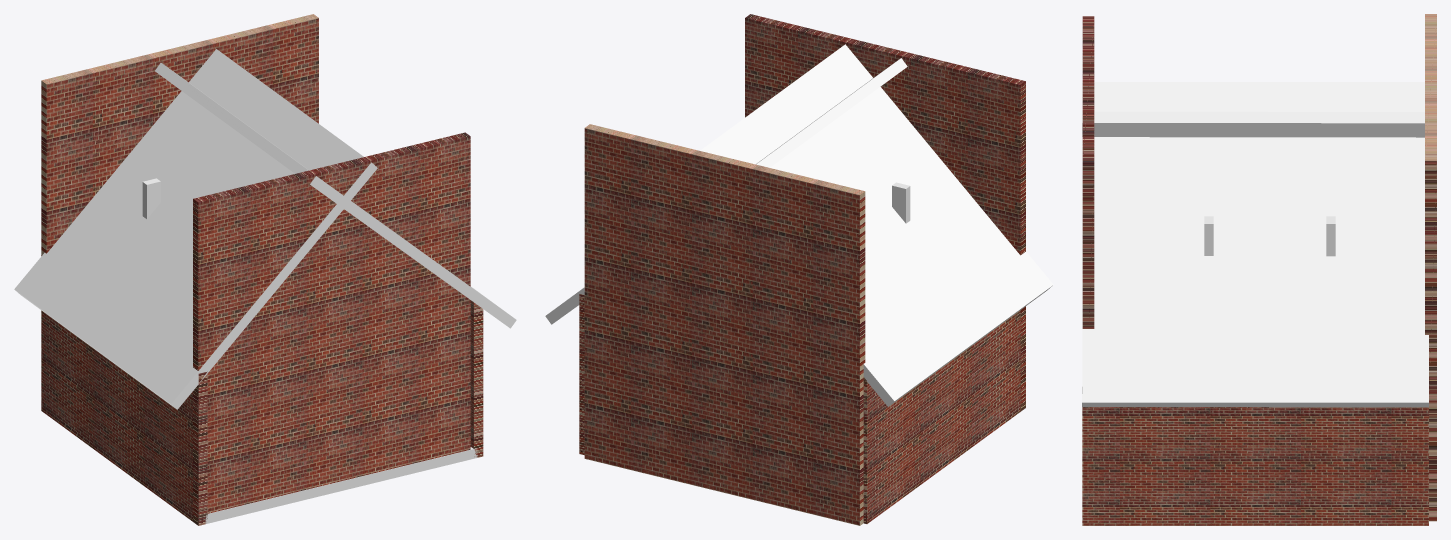
File: pingpong_final_texture_mende.gltf
The picture shows the model from 3 angles, left to right: view 1: azimuth 30°, elevation 25°; view 2: azimuth 150°, elevation 25°; view 3: azimuth 270°, elevation 25°; orthographic projection. The views are drawn at different scales.
Visible parts, largest first — view 1: Plane.012, Plane.026, Plane.016, Plane.011, Plane.015, Plane.014, Plane.013, Plane.035; view 2: Plane.016, Plane.026, Plane.012, Plane.011, Plane.015, Plane.013, Plane.034; view 3: Plane.015, Plane.013, Plane.026, Plane.016, Plane.012.
Part boxes in pixels (bbox=[...]): Plane.012: bbox=[193, 132, 470, 525]; Plane.026: bbox=[14, 49, 377, 409]; Plane.016: bbox=[41, 14, 318, 255]; Plane.011: bbox=[41, 310, 207, 525]; Plane.015: bbox=[155, 63, 516, 328]; Plane.014: bbox=[205, 447, 477, 523]; Plane.013: bbox=[470, 300, 483, 457]; Plane.035: bbox=[142, 178, 160, 218]; Plane.016: bbox=[584, 124, 865, 525]; Plane.026: bbox=[700, 44, 1053, 406]; Plane.012: bbox=[745, 14, 1025, 411]; Plane.011: bbox=[863, 310, 1025, 523]; Plane.015: bbox=[545, 58, 907, 324]; Plane.013: bbox=[579, 294, 584, 455]; Plane.034: bbox=[892, 182, 910, 223]; Plane.015: bbox=[1082, 82, 1428, 407]; Plane.013: bbox=[1082, 407, 1428, 525]; Plane.026: bbox=[1082, 111, 1424, 137]; Plane.016: bbox=[1425, 14, 1436, 521]; Plane.012: bbox=[1082, 16, 1094, 328].
Size of the model in its own units: 49.25 by 44.53 by 39.69.
186 materials, 4 textured.
